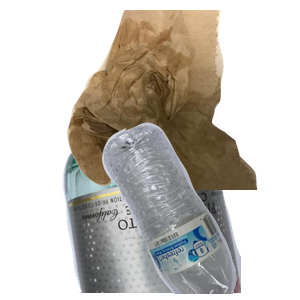glass: (60, 120, 300, 300)
metal: (99, 70, 236, 176)
plastic: (100, 120, 300, 300)
trash: (65, 10, 300, 190)
